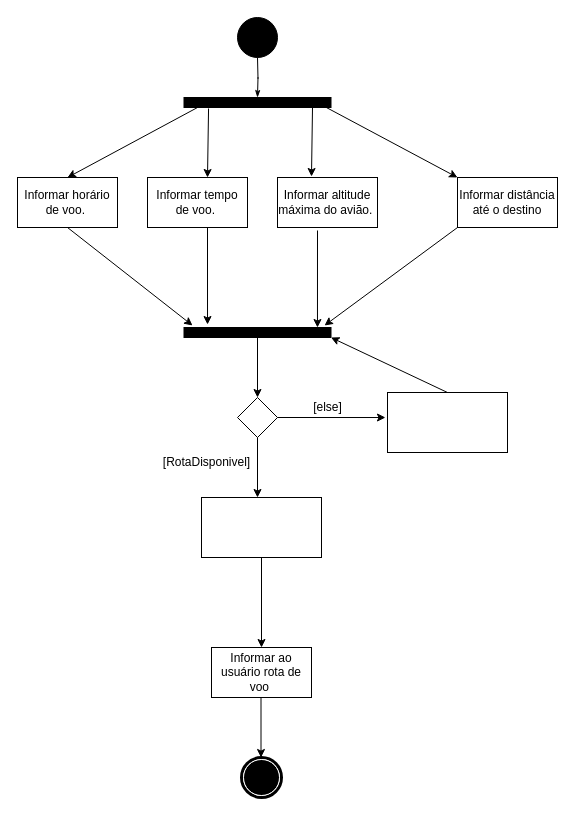
Image size: 575x815. Some labels were removed from this diagram. Here are the shapes that lost their labels. From the top down, the box of each, then its label:
(386, 392, 508, 452): Informe os dados novamente para checar disponibilidade.
(200, 496, 322, 558): Traçar rota de voo.
